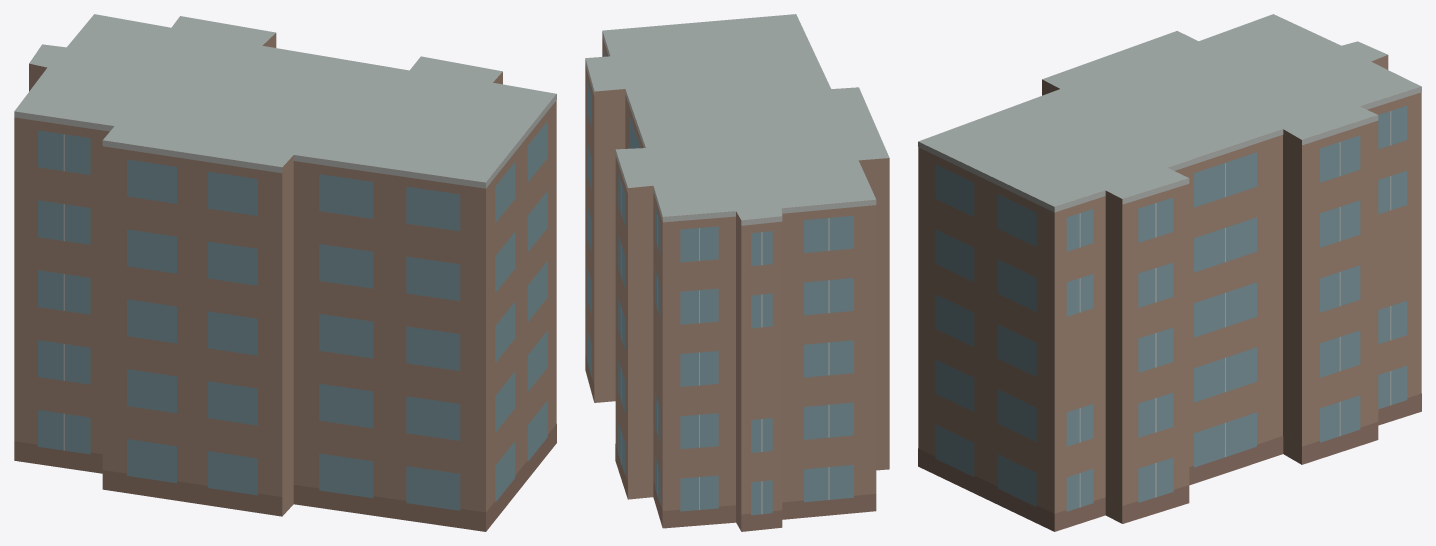
File: survey-upis-32758733.glb
3 renders of one model, left to right at view 1: azimuth 30°, elevation 25°; view 2: azimuth 150°, elevation 25°; view 3: azimuth 270°, elevation 25°, orthographic. The views are drawn at different scales.
Visible parts, largest first — view 1: survey-upis-32758733.tmp; view 2: survey-upis-32758733.tmp; view 3: survey-upis-32758733.tmp.
Part boxes in pixels (x1,y1,x2,y2): survey-upis-32758733.tmp: (14, 14, 556, 531); survey-upis-32758733.tmp: (585, 14, 889, 531); survey-upis-32758733.tmp: (918, 14, 1421, 531).
Size of the model in its own units: 17.96 by 14.1 by 19.81.
